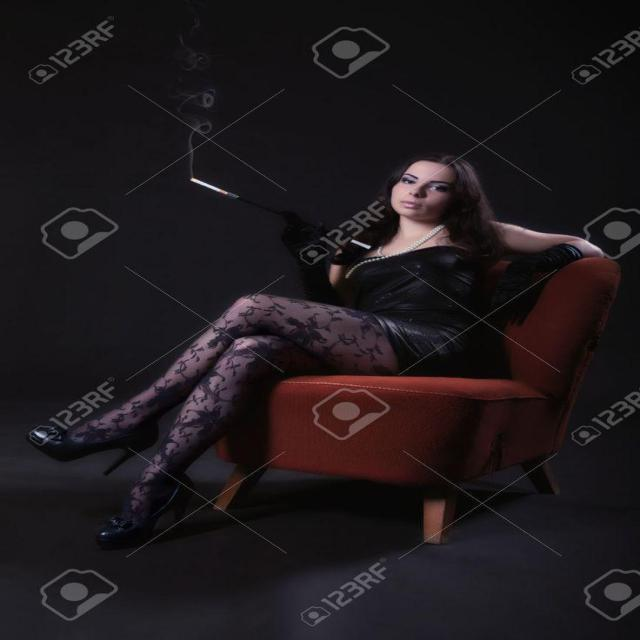cigarette: (172, 166, 245, 207)
